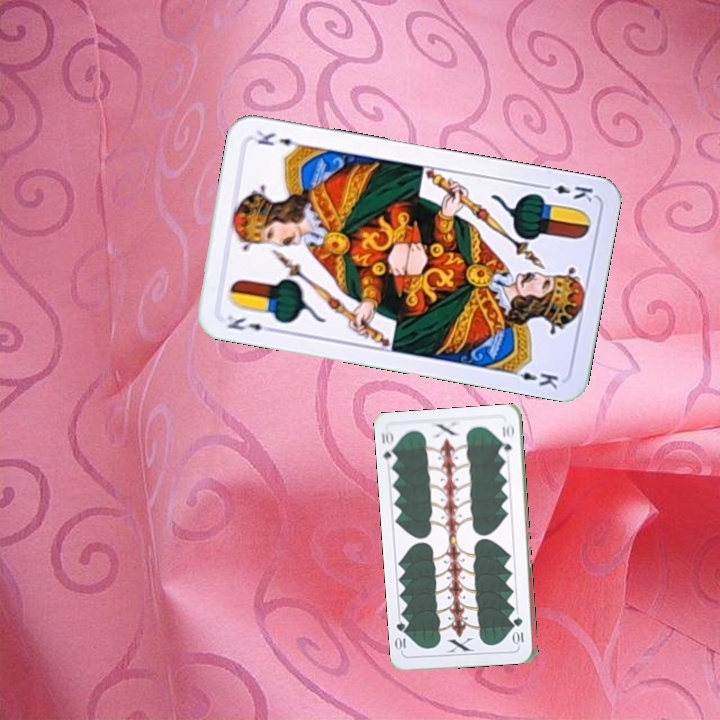EK: (537, 180, 596, 205), (223, 312, 277, 335)
G10: (377, 427, 399, 468), (511, 613, 526, 647)
